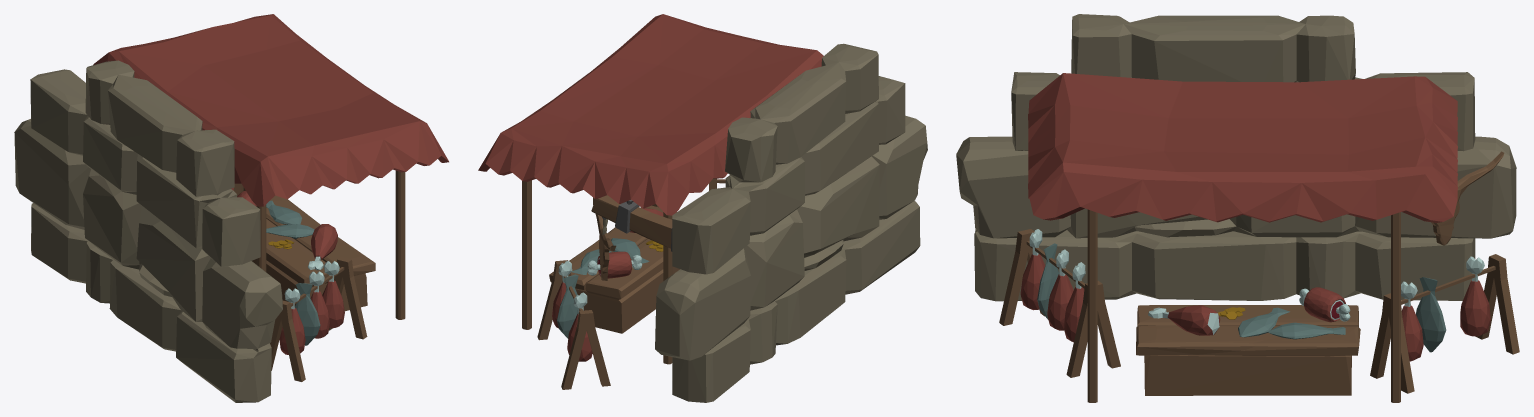
Rendered from botcher shop.glb.
3 views of the same model, side by side, from view 1: azimuth 30°, elevation 25°; view 2: azimuth 150°, elevation 25°; view 3: azimuth 270°, elevation 25° (orthographic). The views are drawn at different scales.
Parts seen in each view (by area): view 1: botcher market; view 2: botcher market; view 3: botcher market.
Boxes of the visible parts, left/top/right/bottom form: botcher market: left=14, top=14, right=448, bottom=402; botcher market: left=478, top=14, right=927, bottom=402; botcher market: left=956, top=14, right=1519, bottom=402.
Size of the model in its own units: 2.44 by 2.2 by 4.19.
